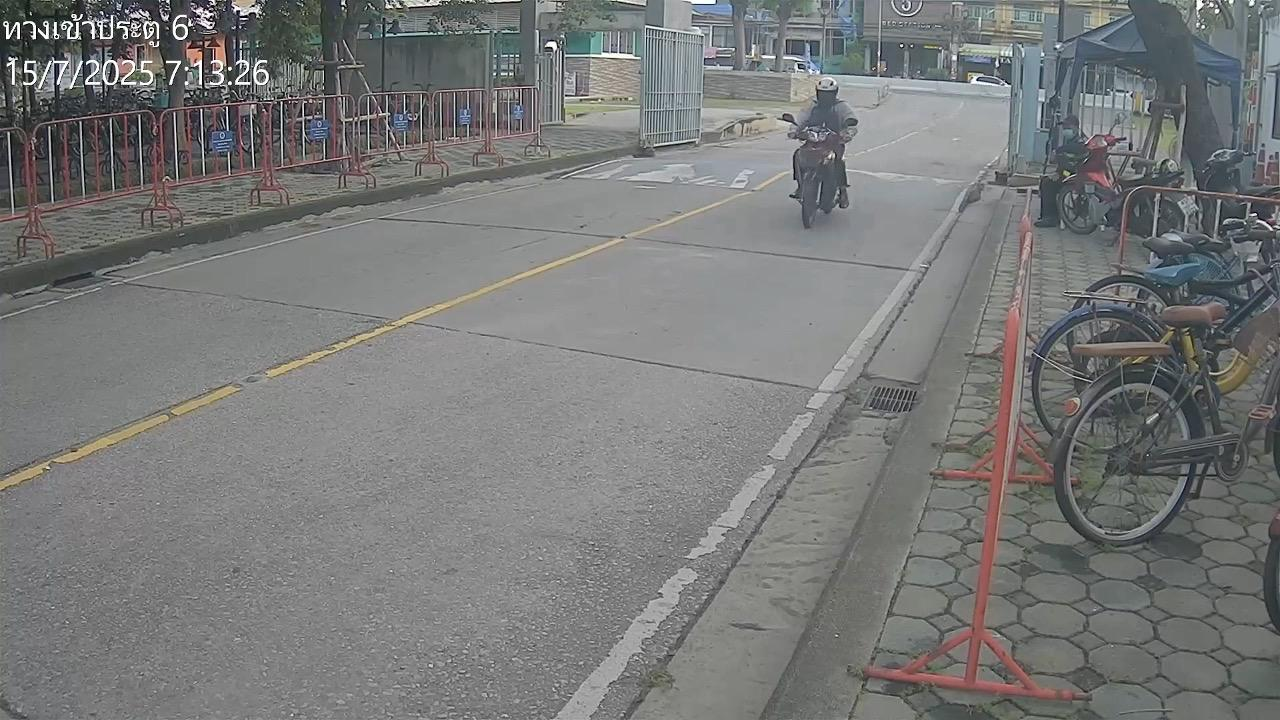With-Helmet: (815, 78, 839, 102)
